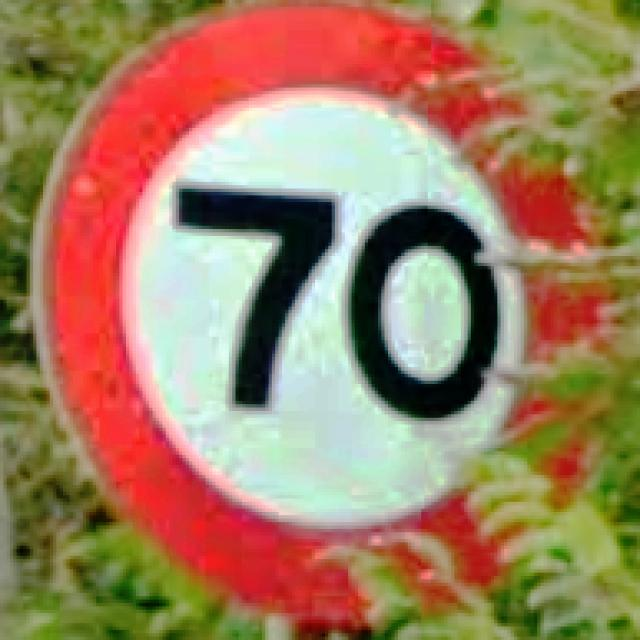max70: (26, 0, 617, 627)
